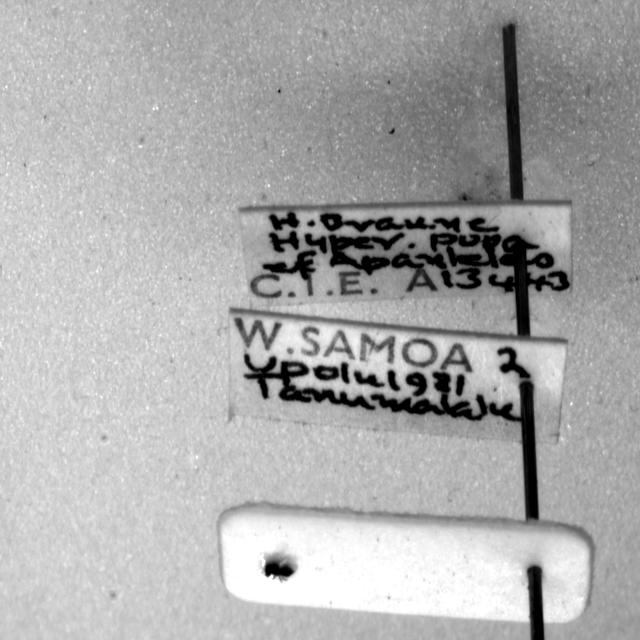mixed_label: (229, 309, 566, 442), (239, 201, 571, 306)
